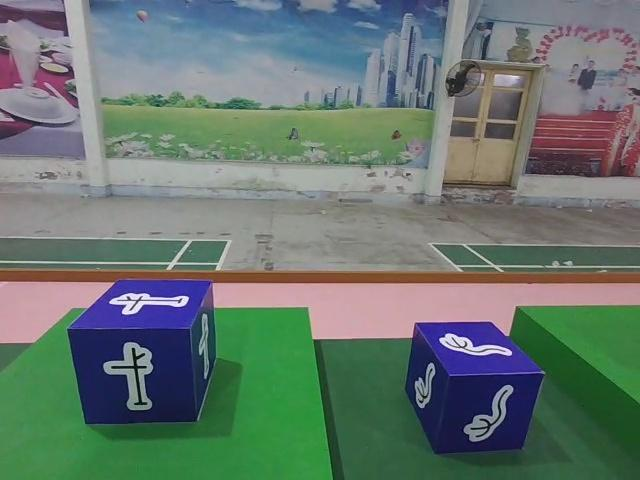R2 Real Blue: (70, 281, 216, 430), (407, 321, 546, 456)
